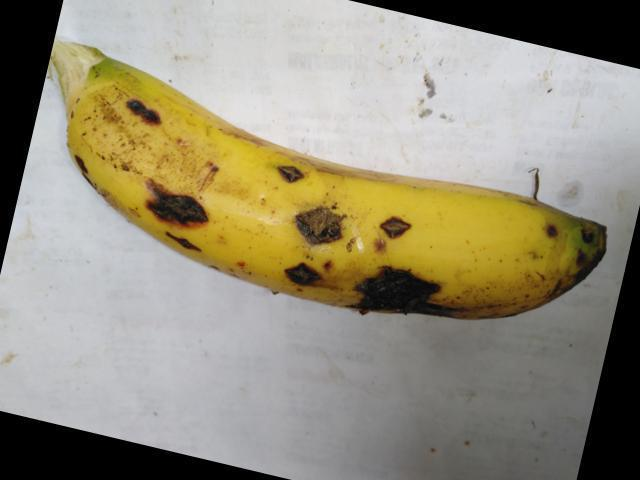rotten: (349, 255, 464, 339), (133, 169, 211, 245), (280, 192, 350, 253), (116, 85, 176, 140), (278, 249, 335, 306), (364, 184, 416, 245), (270, 150, 323, 201)
